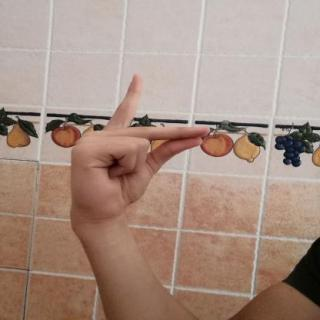TAA: (57, 66, 221, 229)
